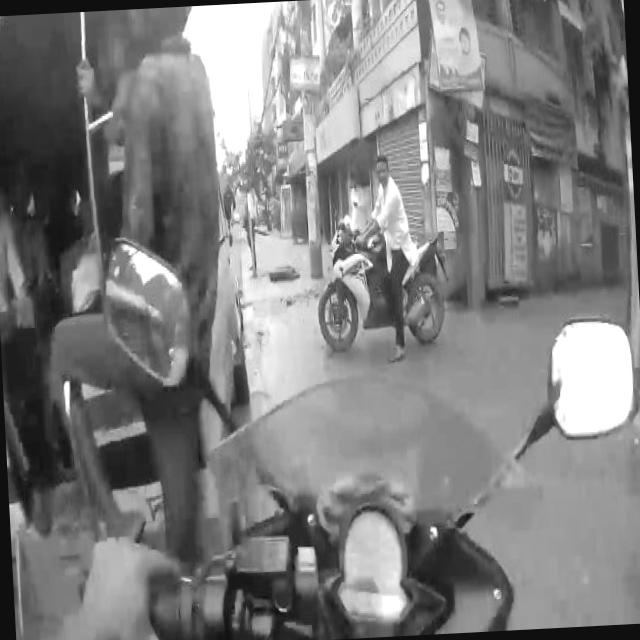motorcycle: (308, 146, 458, 370)
